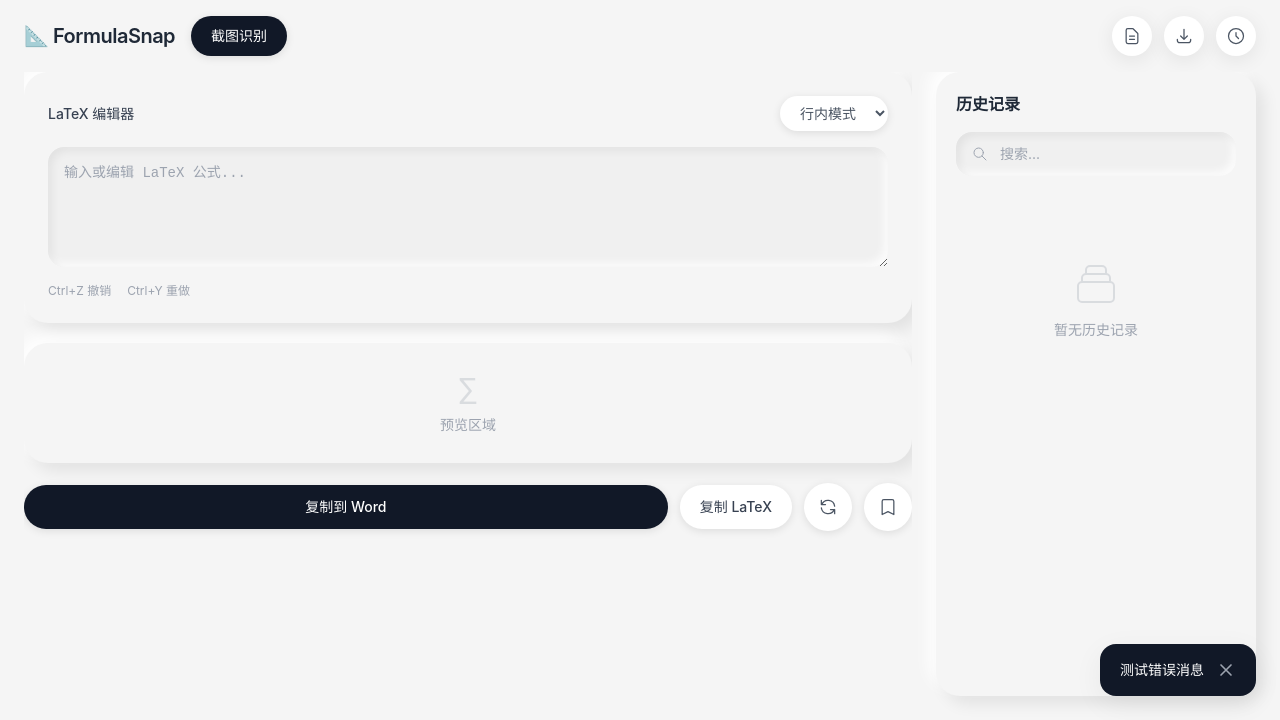
Test: App Shell › dismisses error toast when close button is clicked
The width and height of the screenshot is (1280, 720).
Step 1. Click the button named "关闭错误提示" → (1226, 670), box [1216,660,1236,680]
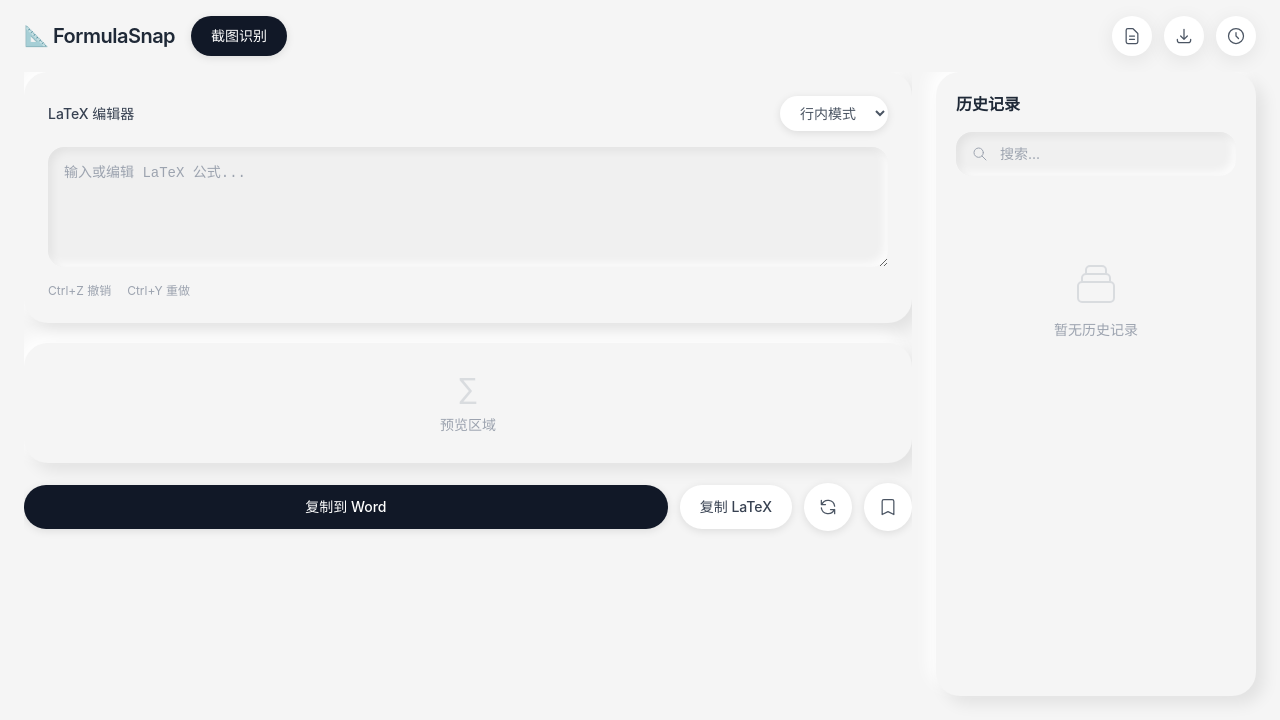
Expected: the message with test id "error-toast" is gone
